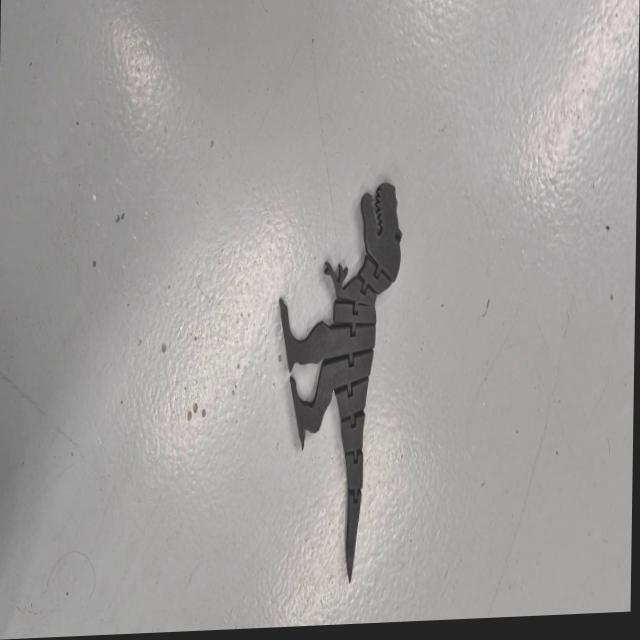dino: (273, 180, 403, 588)
